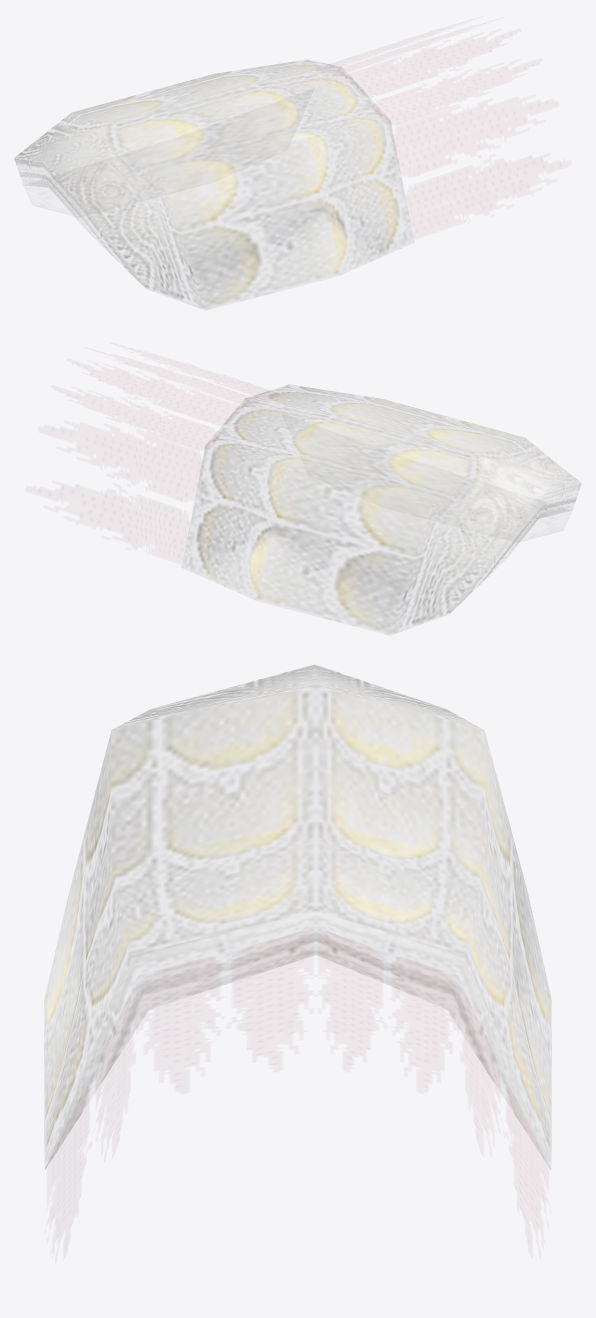
The model's file is light_03_sa.glb.
3 views of the same model, one above another, from view 1: azimuth 30°, elevation 25°; view 2: azimuth 150°, elevation 25°; view 3: azimuth 270°, elevation 25° (orthographic). The views are drawn at different scales.
Visible parts, largest first — view 1: Light_03_sa; view 2: Light_03_sa; view 3: Light_03_sa.
Boxes of the visible parts, bbox=[...] form: Light_03_sa: bbox=[14, 60, 409, 308]; Light_03_sa: bbox=[186, 385, 581, 633]; Light_03_sa: bbox=[44, 665, 551, 1169].
Size of the model in its own units: 0.2647 by 0.0811 by 0.1226.
1 material, 1 textured.
